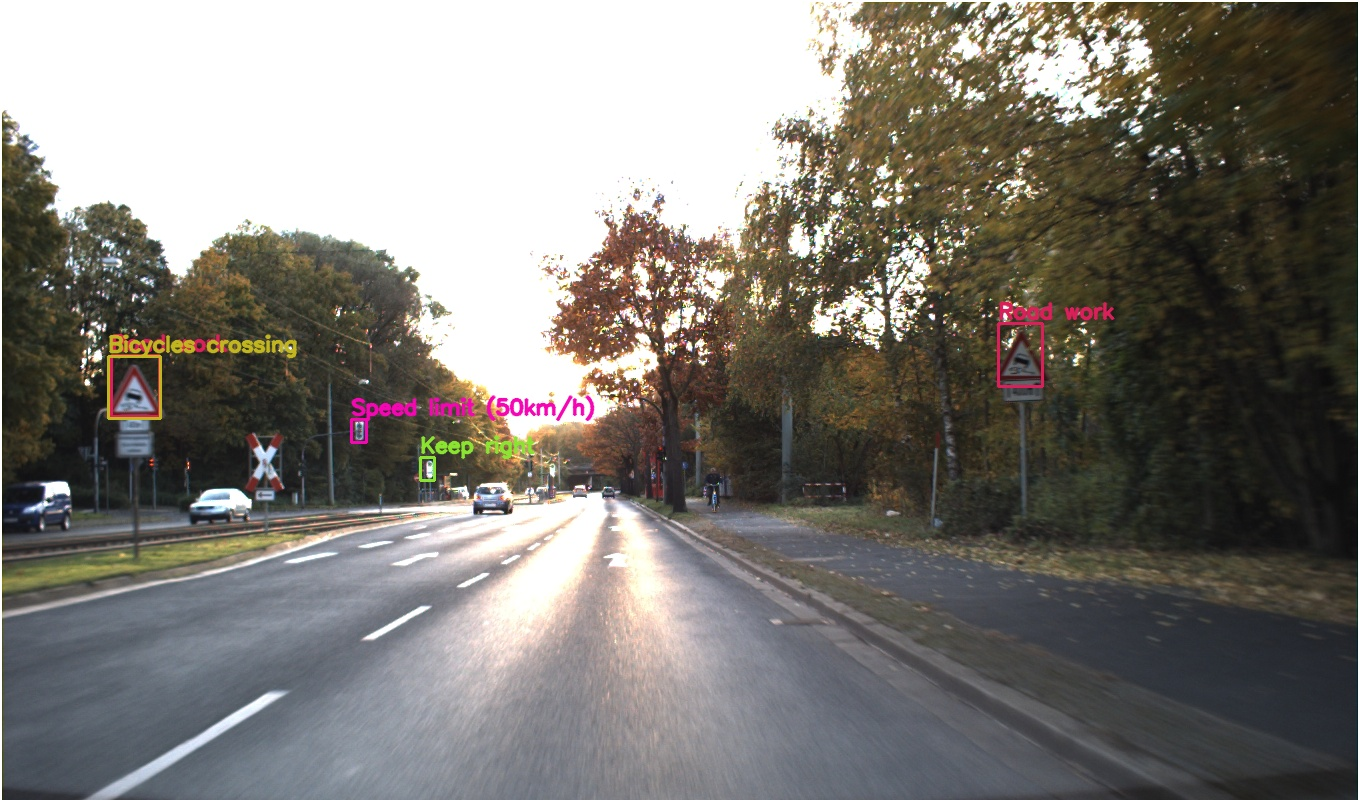Speed limit (100km/h): (500, 496, 521, 518), (883, 498, 904, 520)
